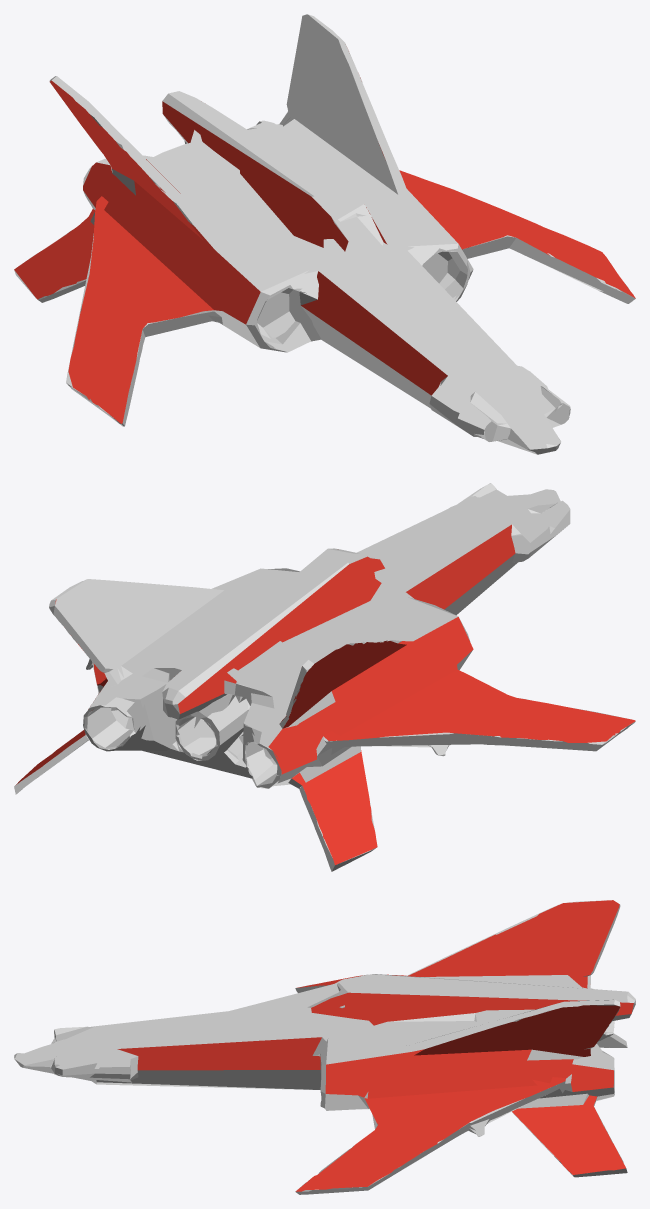
File: raider_t2.glb
3 views of the same model, one above another, from view 1: azimuth 30°, elevation 25°; view 2: azimuth 150°, elevation 25°; view 3: azimuth 270°, elevation 25° (orthographic). The views are drawn at different scales.
Parts seen in each view (by area): view 1: Starfighter; view 2: Starfighter; view 3: Starfighter.
Part boxes in pixels (box(x1,y1,x2,y2)): Starfighter: box(14, 14, 635, 454); Starfighter: box(14, 483, 635, 871); Starfighter: box(14, 900, 635, 1194).
Bounding box in the file's own units: 41.97 × 14.99 × 51.99.
